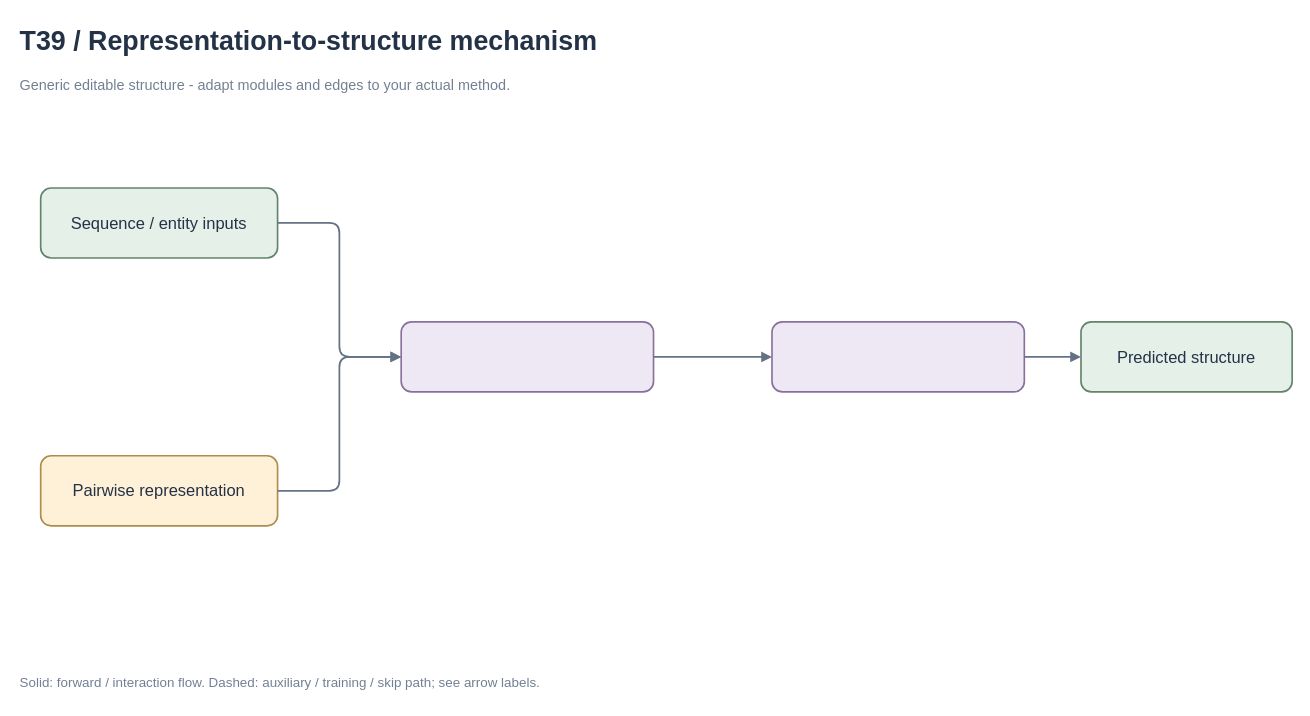
The diagram is 1310 pixels wide and 716 high, and some of its shapes have lost their labels. Here are the shapes that lost their labels. From the top down, the centre of each, then its label:
At [527,356]: "Representation trunk Interaction updates".
At [898,356]: "Structure generation Denoising / refinement".
